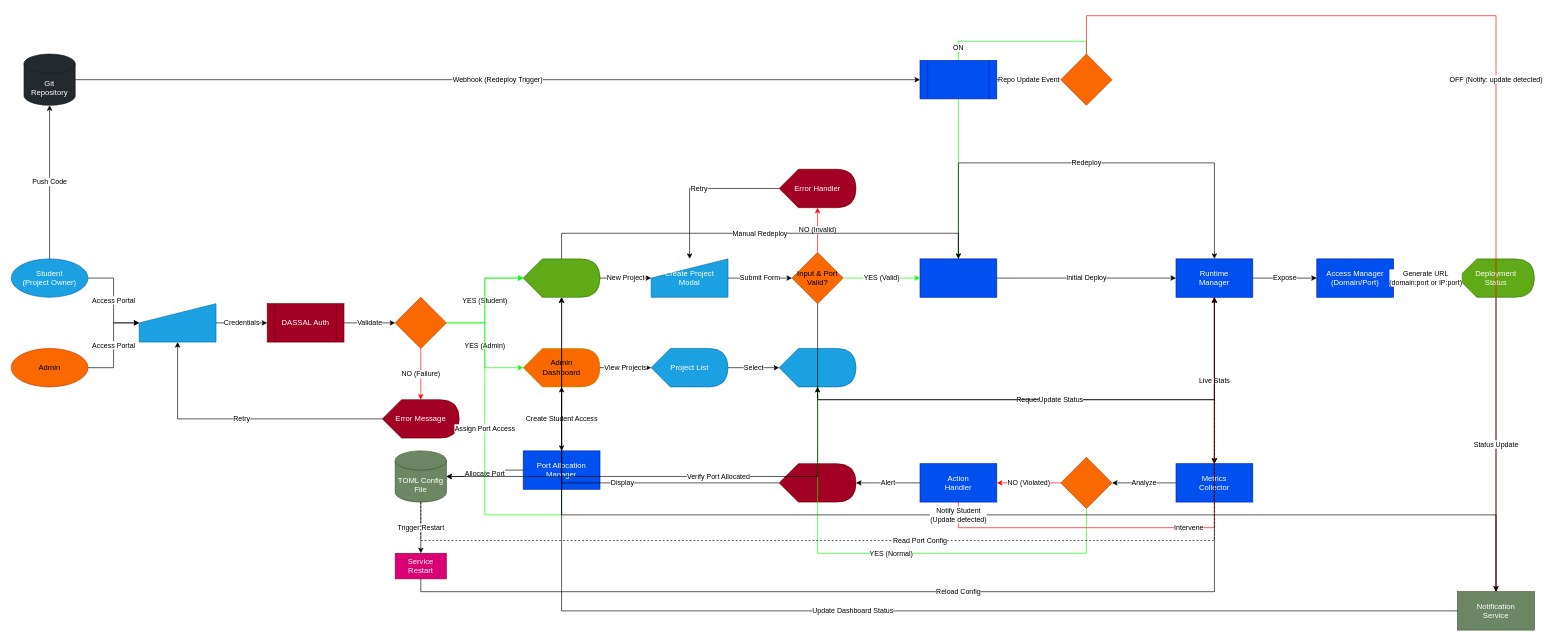
Some shapes in this 1554 by 641 pixel diagram are drawn without their labels. Here are the shapes that lost their labels. From the top down, the box of each, then its label:
(919, 60, 997, 99): Webhook Listener
(1060, 53, 1112, 105): Auto Redeploy?
(523, 258, 600, 297): Student Dashboard
(919, 258, 997, 297): Orchestrator (Ops Service)
(139, 303, 216, 342): Login Page
(395, 297, 446, 348): Account Valid?
(779, 348, 856, 387): Project Details
(779, 463, 856, 502): System Alerts
(1060, 457, 1112, 508): Limits OK?
